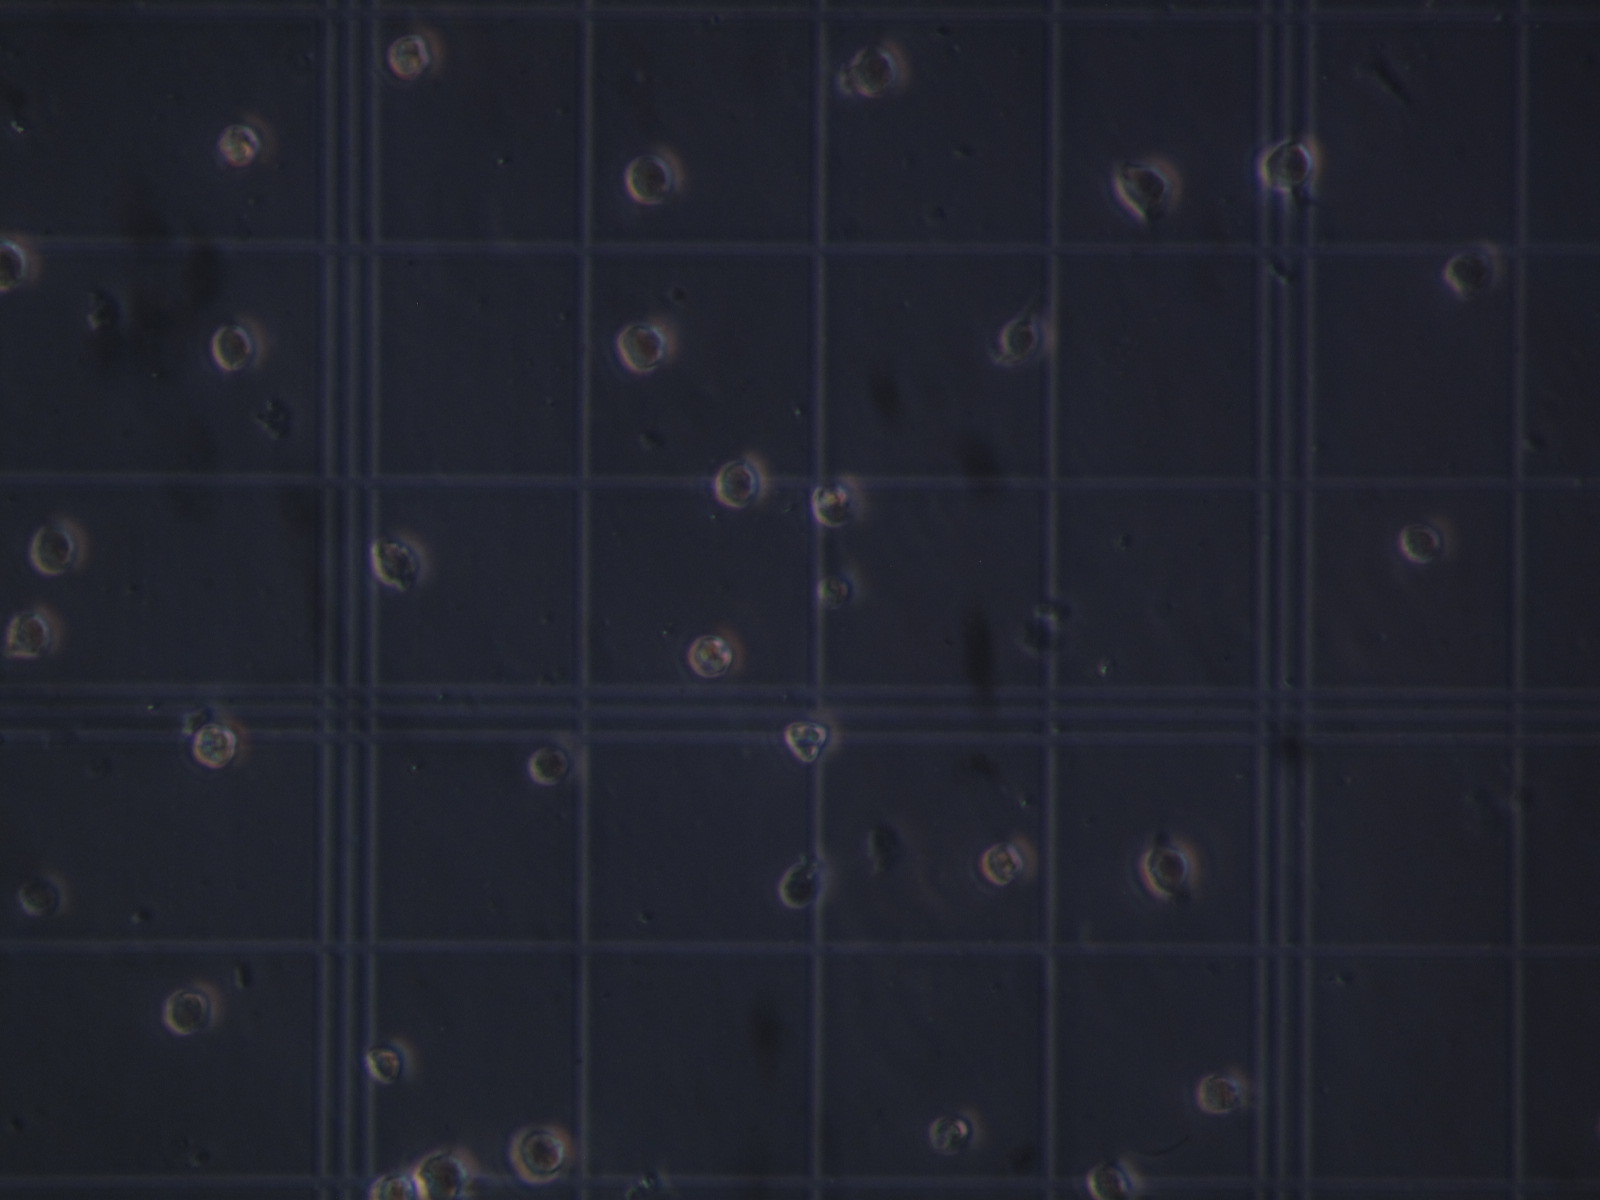hemo: (1110, 153, 1184, 223), (509, 1121, 576, 1186), (26, 511, 88, 577), (847, 37, 911, 100), (624, 141, 687, 205), (1256, 132, 1323, 193), (1131, 839, 1199, 899), (210, 311, 268, 377), (386, 21, 446, 82), (617, 313, 678, 373), (370, 529, 428, 592), (217, 110, 277, 169), (711, 449, 769, 511), (5, 599, 63, 661), (418, 1142, 480, 1200), (163, 978, 222, 1037), (1445, 234, 1500, 297), (1395, 511, 1458, 566), (190, 712, 247, 770), (687, 624, 746, 679), (810, 470, 866, 528), (979, 833, 1038, 887), (998, 310, 1054, 366), (784, 711, 840, 765), (927, 1104, 983, 1156), (367, 1035, 417, 1087), (1, 229, 42, 292), (1197, 1068, 1250, 1116), (779, 861, 833, 908), (1085, 1158, 1141, 1200), (18, 874, 66, 919), (815, 566, 862, 611), (527, 745, 571, 787), (367, 1172, 425, 1200)
